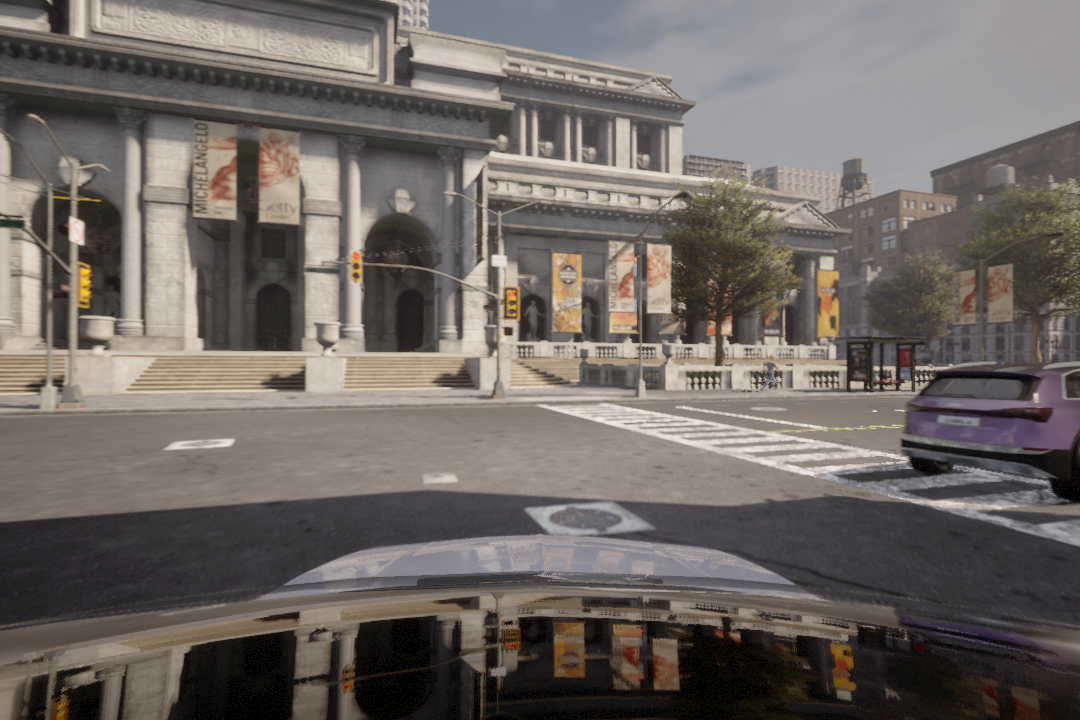TrafficLight: (73, 261, 94, 309), (501, 287, 520, 324), (348, 254, 364, 286)
walkside: (530, 396, 1080, 562)
